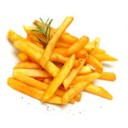frenchfries: (8, 19, 116, 108)
